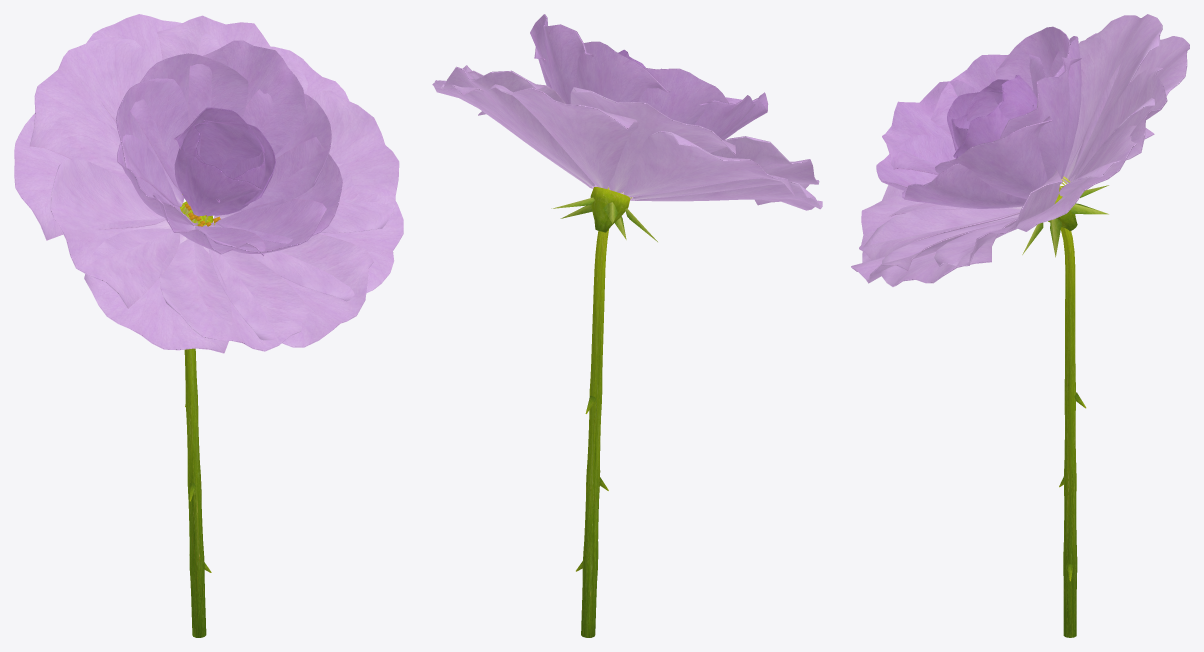
Rendered from color_7.glb.
3 views of the same model, side by side, from view 1: azimuth 30°, elevation 25°; view 2: azimuth 150°, elevation 25°; view 3: azimuth 270°, elevation 25° (orthographic).
Parts seen in each view (by area): view 1: Petal_1_outer_03, Petal_3_outer_04, Petal_5_outer_04, Petal_6_outer_02, Petal_4_outer_01, Petal_8_outer_02, Petal_15_middle_03, Petal_7_outer_03, Petal_17_middle_01, Petal_16_middle_04, Stem_Skinned, Petal_14_middle_04 (+13 smaller); view 2: Petal_0_outer_01, Stem_Skinned, Petal_2_outer_01, Petal_10_outer_02, Petal_1_outer_03, Petal_16_middle_04, Petal_3_outer_04, Petal_17_middle_01, Petal_15_middle_03, Petal_4_outer_01, Hypanthium_and_five_sepals, Petal_18_middle_02 (+2 smaller); view 3: Petal_1_outer_03, Stem_Skinned, Petal_14_middle_04, Petal_6_outer_02, Petal_10_outer_02, Petal_15_middle_03, Petal_11_middle_03, Petal_13_middle_02, Petal_7_outer_03, Petal_0_outer_01, Petal_8_outer_02, Petal_5_outer_04 (+10 smaller).
Boxes of the visible parts, bbox=[...] form: Petal_1_outer_03: bbox=[29, 37, 154, 186]; Petal_3_outer_04: bbox=[50, 159, 179, 308]; Petal_5_outer_04: bbox=[159, 239, 309, 351]; Petal_6_outer_02: bbox=[209, 234, 373, 347]; Petal_4_outer_01: bbox=[84, 228, 232, 353]; Petal_8_outer_02: bbox=[312, 90, 399, 233]; Petal_15_middle_03: bbox=[188, 40, 306, 155]; Petal_7_outer_03: bbox=[246, 172, 403, 301]; Petal_17_middle_01: bbox=[115, 78, 188, 206]; Petal_16_middle_04: bbox=[130, 53, 248, 191]; Stem_Skinned: bbox=[184, 212, 211, 637]; Petal_14_middle_04: bbox=[237, 89, 331, 211]; Petal_0_outer_01: bbox=[489, 84, 638, 188]; Stem_Skinned: bbox=[576, 229, 608, 637]; Petal_2_outer_01: bbox=[624, 130, 794, 197]; Petal_10_outer_02: bbox=[441, 66, 594, 186]; Petal_1_outer_03: bbox=[570, 87, 735, 193]; Petal_16_middle_04: bbox=[576, 41, 669, 102]; Petal_3_outer_04: bbox=[633, 136, 819, 200]; Petal_17_middle_01: bbox=[638, 67, 728, 124]; Petal_15_middle_03: bbox=[530, 14, 593, 104]; Petal_4_outer_01: bbox=[632, 182, 822, 210]; Hypanthium_and_five_sepals: bbox=[551, 187, 657, 241]; Petal_18_middle_02: bbox=[694, 95, 755, 138]; Petal_1_outer_03: bbox=[1063, 14, 1162, 182]; Stem_Skinned: bbox=[1059, 227, 1086, 637]; Petal_14_middle_04: bbox=[935, 116, 1051, 198]; Petal_6_outer_02: bbox=[851, 206, 1020, 283]; Petal_10_outer_02: bbox=[1059, 66, 1167, 196]; Petal_15_middle_03: bbox=[1000, 57, 1081, 184]; Petal_11_middle_03: bbox=[882, 80, 978, 174]; Petal_13_middle_02: bbox=[902, 163, 1026, 208]; Petal_7_outer_03: bbox=[881, 217, 1018, 286]; Petal_0_outer_01: bbox=[1070, 36, 1189, 181]; Petal_8_outer_02: bbox=[934, 170, 1062, 266]; Petal_5_outer_04: bbox=[859, 185, 1021, 260].
Size of the model in its own units: 0.1988 by 0.3289 by 0.1713.
7 materials, 7 textured.
